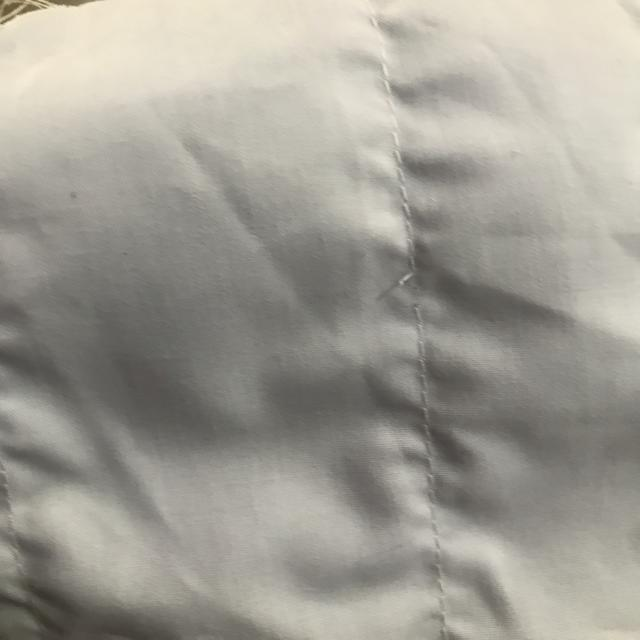broken: (393, 266, 433, 322)
good: (409, 392, 448, 520)
